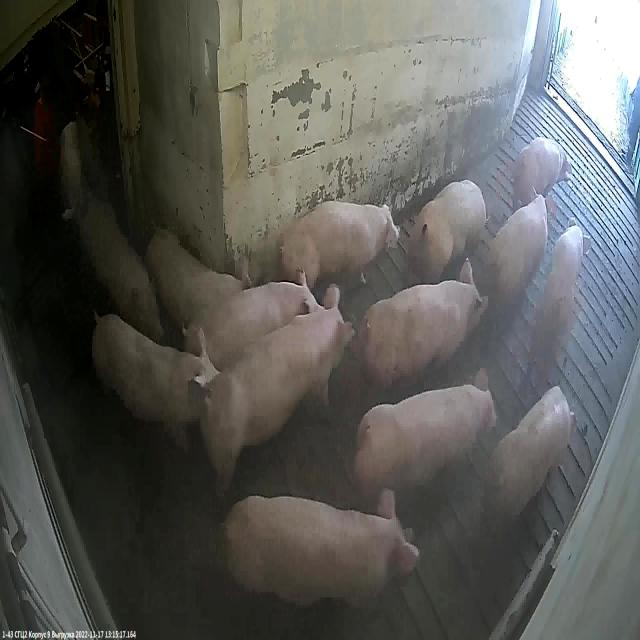pig: (201, 284, 355, 492), (223, 488, 419, 611), (353, 368, 496, 495), (92, 311, 220, 448), (360, 258, 488, 391), (186, 267, 321, 373), (75, 203, 168, 343), (484, 389, 575, 532), (148, 233, 251, 330), (283, 202, 399, 288), (496, 187, 556, 314), (412, 180, 486, 282), (536, 218, 588, 361), (516, 140, 573, 207), (59, 120, 86, 222)
